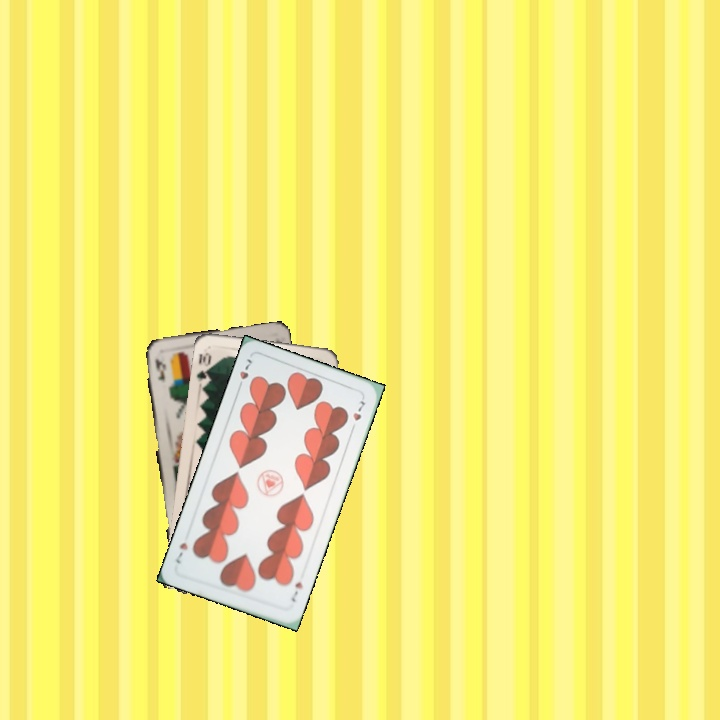EK: (151, 354, 168, 385)
G10: (192, 349, 214, 388)
H7: (234, 354, 255, 393), (286, 577, 305, 605)
